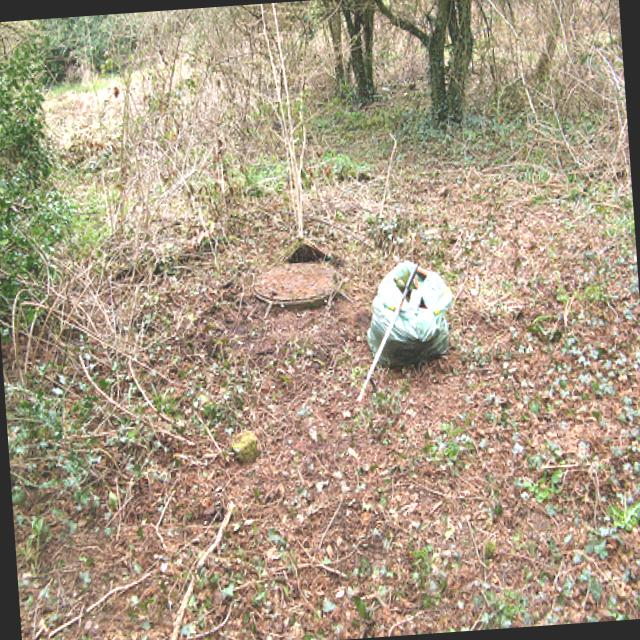garbage: (352, 228, 464, 372)
